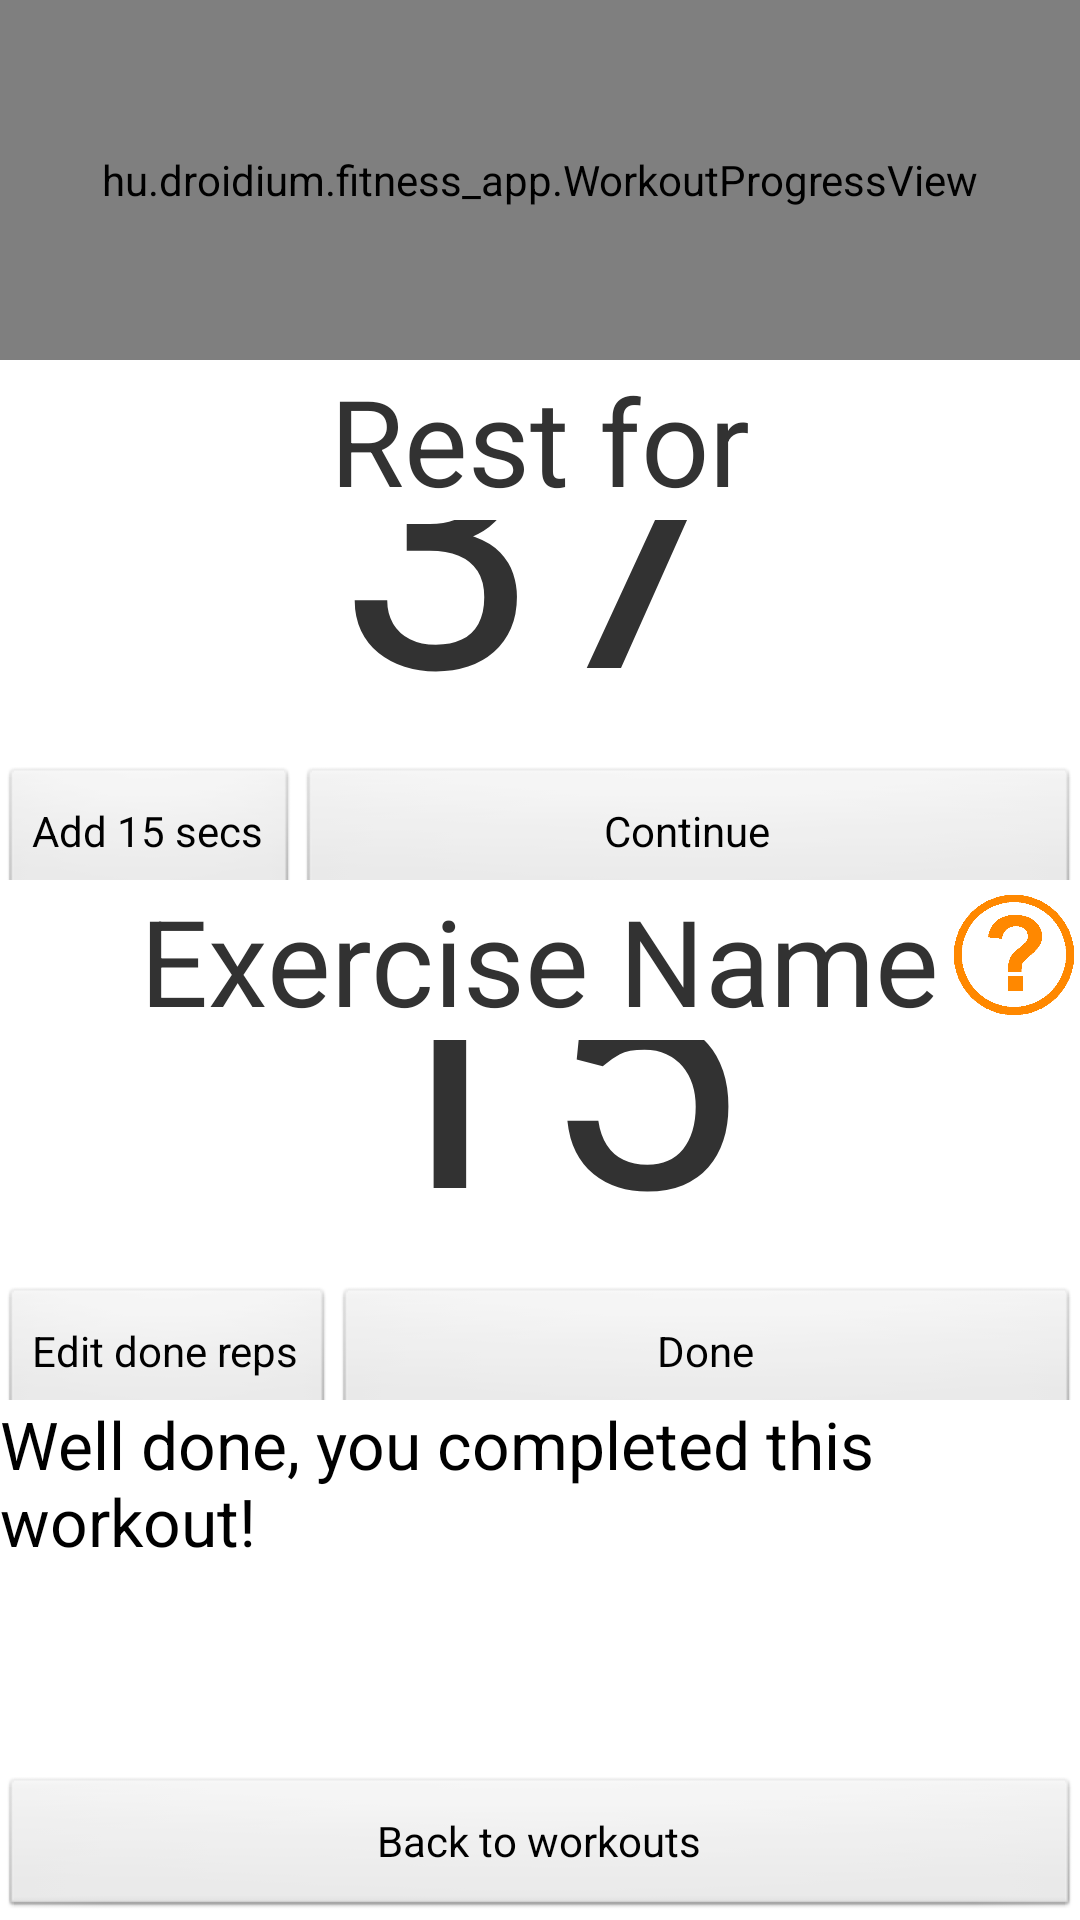

Icons on this 1080 × 1920 Android screen, each with its box as (x1=x1, y1=y1, x2=x2, y2=y2):
Help: (x1=954, y1=895, x2=1074, y2=1015)
